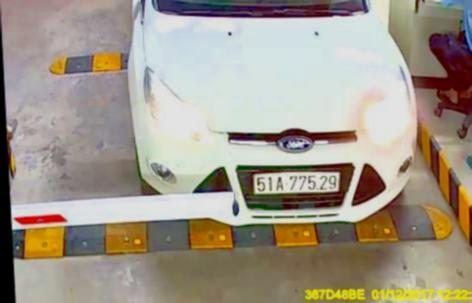License_Plate: (251, 169, 341, 201)
